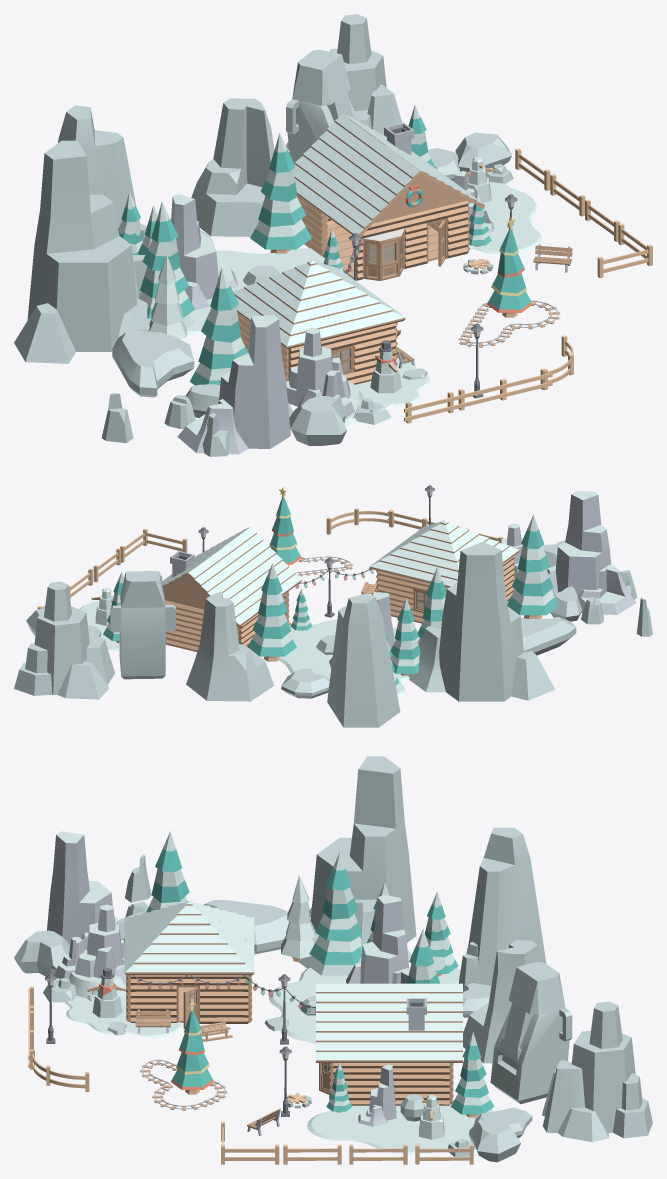
File: christmas.glb
3 renders of one model, top to bottom at view 1: azimuth 30°, elevation 25°; view 2: azimuth 150°, elevation 25°; view 3: azimuth 270°, elevation 25°, orthographic. The views are drawn at different scales.
Parts seen in each view (by area): view 1: stone_tall1, rockFormationLarge(Clone) (×2), treePineSnow(Clone) (×5), cabinRoof(Clone) (×3), cabinRoofCorner(Clone) (×3), stone_tall8, snowPatch(Clone) (×3), stone_statue, stone_tall2, stone_tall3, stone_large1, rockFormationMedium(Clone) (+24 smaller); view 2: stone_tall1, treePineSnow(Clone) (×6), stone_tall3, stone_tall2, rockFormationLarge(Clone) (×2), stone_tall8, cabinRoof(Clone) (×3), stone_statue, cabinRoofCorner(Clone) (×3), snowPatch(Clone) (×2), cabinWall(Clone) (×4), stone_large1 (+12 smaller); view 3: cabinRoof(Clone) (×2), stone_tall1, stone_tall2, rockFormationLarge(Clone) (×3), treePineSnow(Clone) (×5), cabinRoofCorner(Clone) (×4), snowPatch(Clone) (×3), stone_statue, stone_tall3, cabinWall(Clone) (×4), stone_tall8, rockFormationMedium(Clone) (+20 smaller).
Part boxes in pixels (x1=…): stone_tall1: x1=14, y1=140, x2=194, y2=363; rockFormationLarge(Clone) (×2): x1=171, y1=194, x2=292, y2=454; treePineSnow(Clone) (×5): x1=138, y1=104, x2=491, y2=385; cabinRoof(Clone) (×3): x1=293, y1=114, x2=484, y2=236; cabinRoofCorner(Clone) (×3): x1=233, y1=260, x2=405, y2=349; stone_tall8: x1=191, y1=98, x2=274, y2=236; snowPatch(Clone) (×3): x1=187, y1=177, x2=541, y2=409; stone_statue: x1=286, y1=49, x2=358, y2=163; stone_tall2: x1=286, y1=14, x2=401, y2=149; stone_tall3: x1=58, y1=105, x2=136, y2=228; stone_large1: x1=112, y1=330, x2=194, y2=397; rockFormationMedium(Clone): x1=286, y1=328, x2=350, y2=407; stone_tall1: x1=408, y1=541, x2=555, y2=701; treePineSnow(Clone) (×6): x1=103, y1=514, x2=556, y2=675; stone_tall3: x1=327, y1=593, x2=400, y2=727; stone_tall2: x1=14, y1=581, x2=114, y2=699; rockFormationLarge(Clone) (×2): x1=329, y1=491, x2=636, y2=668; stone_tall8: x1=186, y1=591, x2=273, y2=701; cabinRoof(Clone) (×3): x1=161, y1=527, x2=301, y2=627; stone_statue: x1=110, y1=571, x2=175, y2=679; cabinRoofCorner(Clone) (×3): x1=369, y1=521, x2=519, y2=587; snowPatch(Clone) (×2): x1=79, y1=600, x2=419, y2=697; cabinWall(Clone) (×4): x1=165, y1=556, x2=514, y2=651; stone_large1: x1=521, y1=617, x2=576, y2=655; cabinRoof(Clone) (×2): x1=316, y1=983, x2=462, y2=1062; stone_tall1: x1=292, y1=756, x2=416, y2=975; stone_tall2: x1=542, y1=1001, x2=652, y2=1142; rockFormationLarge(Clone) (×3): x1=47, y1=831, x2=409, y2=1126; treePineSnow(Clone) (×5): x1=146, y1=831, x2=494, y2=1117; cabinRoofCorner(Clone) (×4): x1=124, y1=901, x2=254, y2=975; snowPatch(Clone) (×3): x1=65, y1=967, x2=493, y2=1154; stone_statue: x1=490, y1=962, x2=572, y2=1104; stone_tall3: x1=468, y1=827, x2=546, y2=985; cabinWall(Clone) (×4): x1=135, y1=975, x2=449, y2=1105; stone_tall8: x1=463, y1=940, x2=540, y2=1063; rockFormationMedium(Clone): x1=75, y1=904, x2=126, y2=984.
Size of the model in its own units: 11.09 by 3.16 by 10.96.
